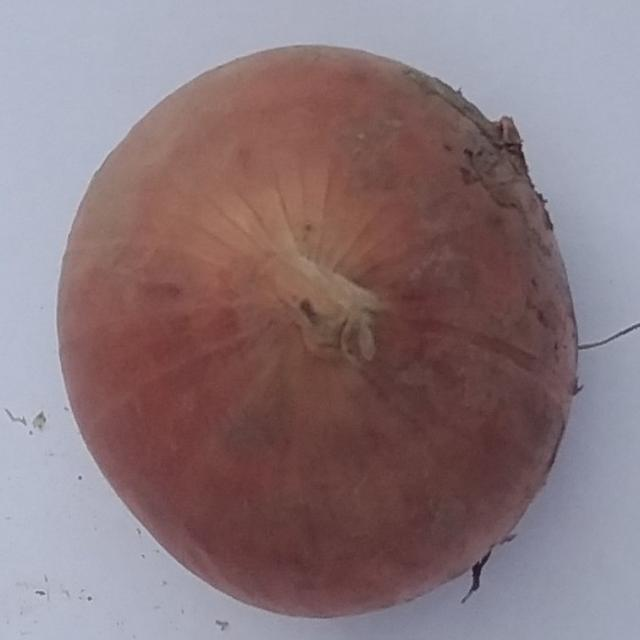onion: (55, 45, 586, 617)
